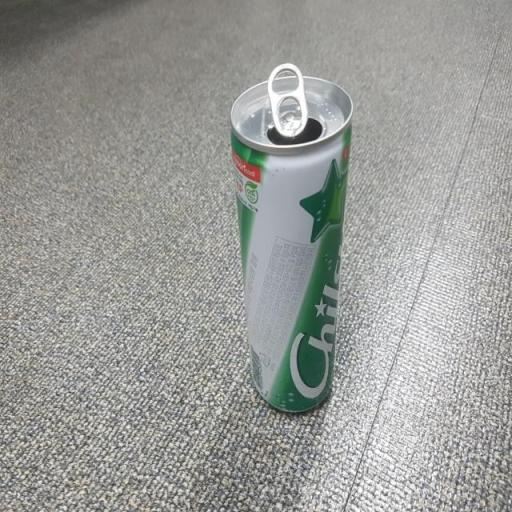metal: (221, 56, 361, 452)
